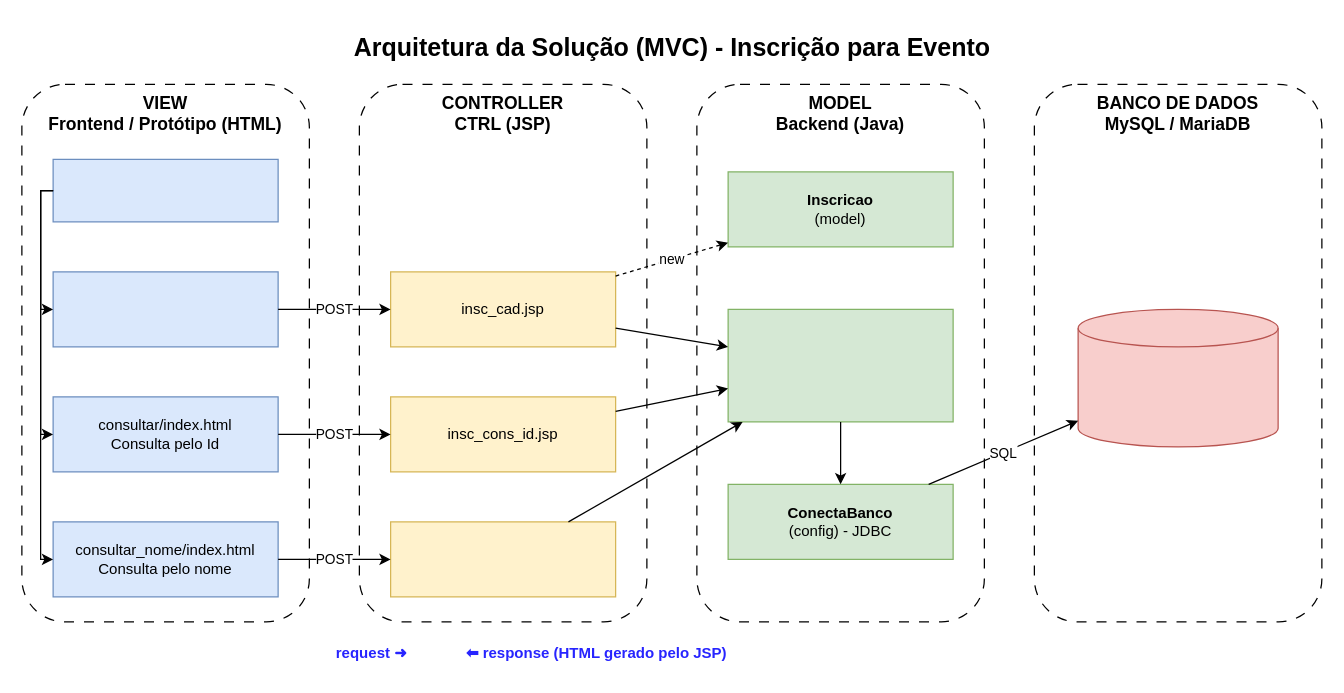
This 1344x693 diagram has some shape labels left out. Here are the shapes that lost their labels. From the top down, the centre of each, then its label:
[165,190]: index.html (Menu principal)
[165,309]: cadastrar/index.html Formulário de inscrição
[840,365]: InscricaoDAO (model.DAO) cadastrar / consultarId / consultarNome
[1177,377]: Banco: evento Tabela: inscricoes
[502,559]: insc_cons_nome.jsp
